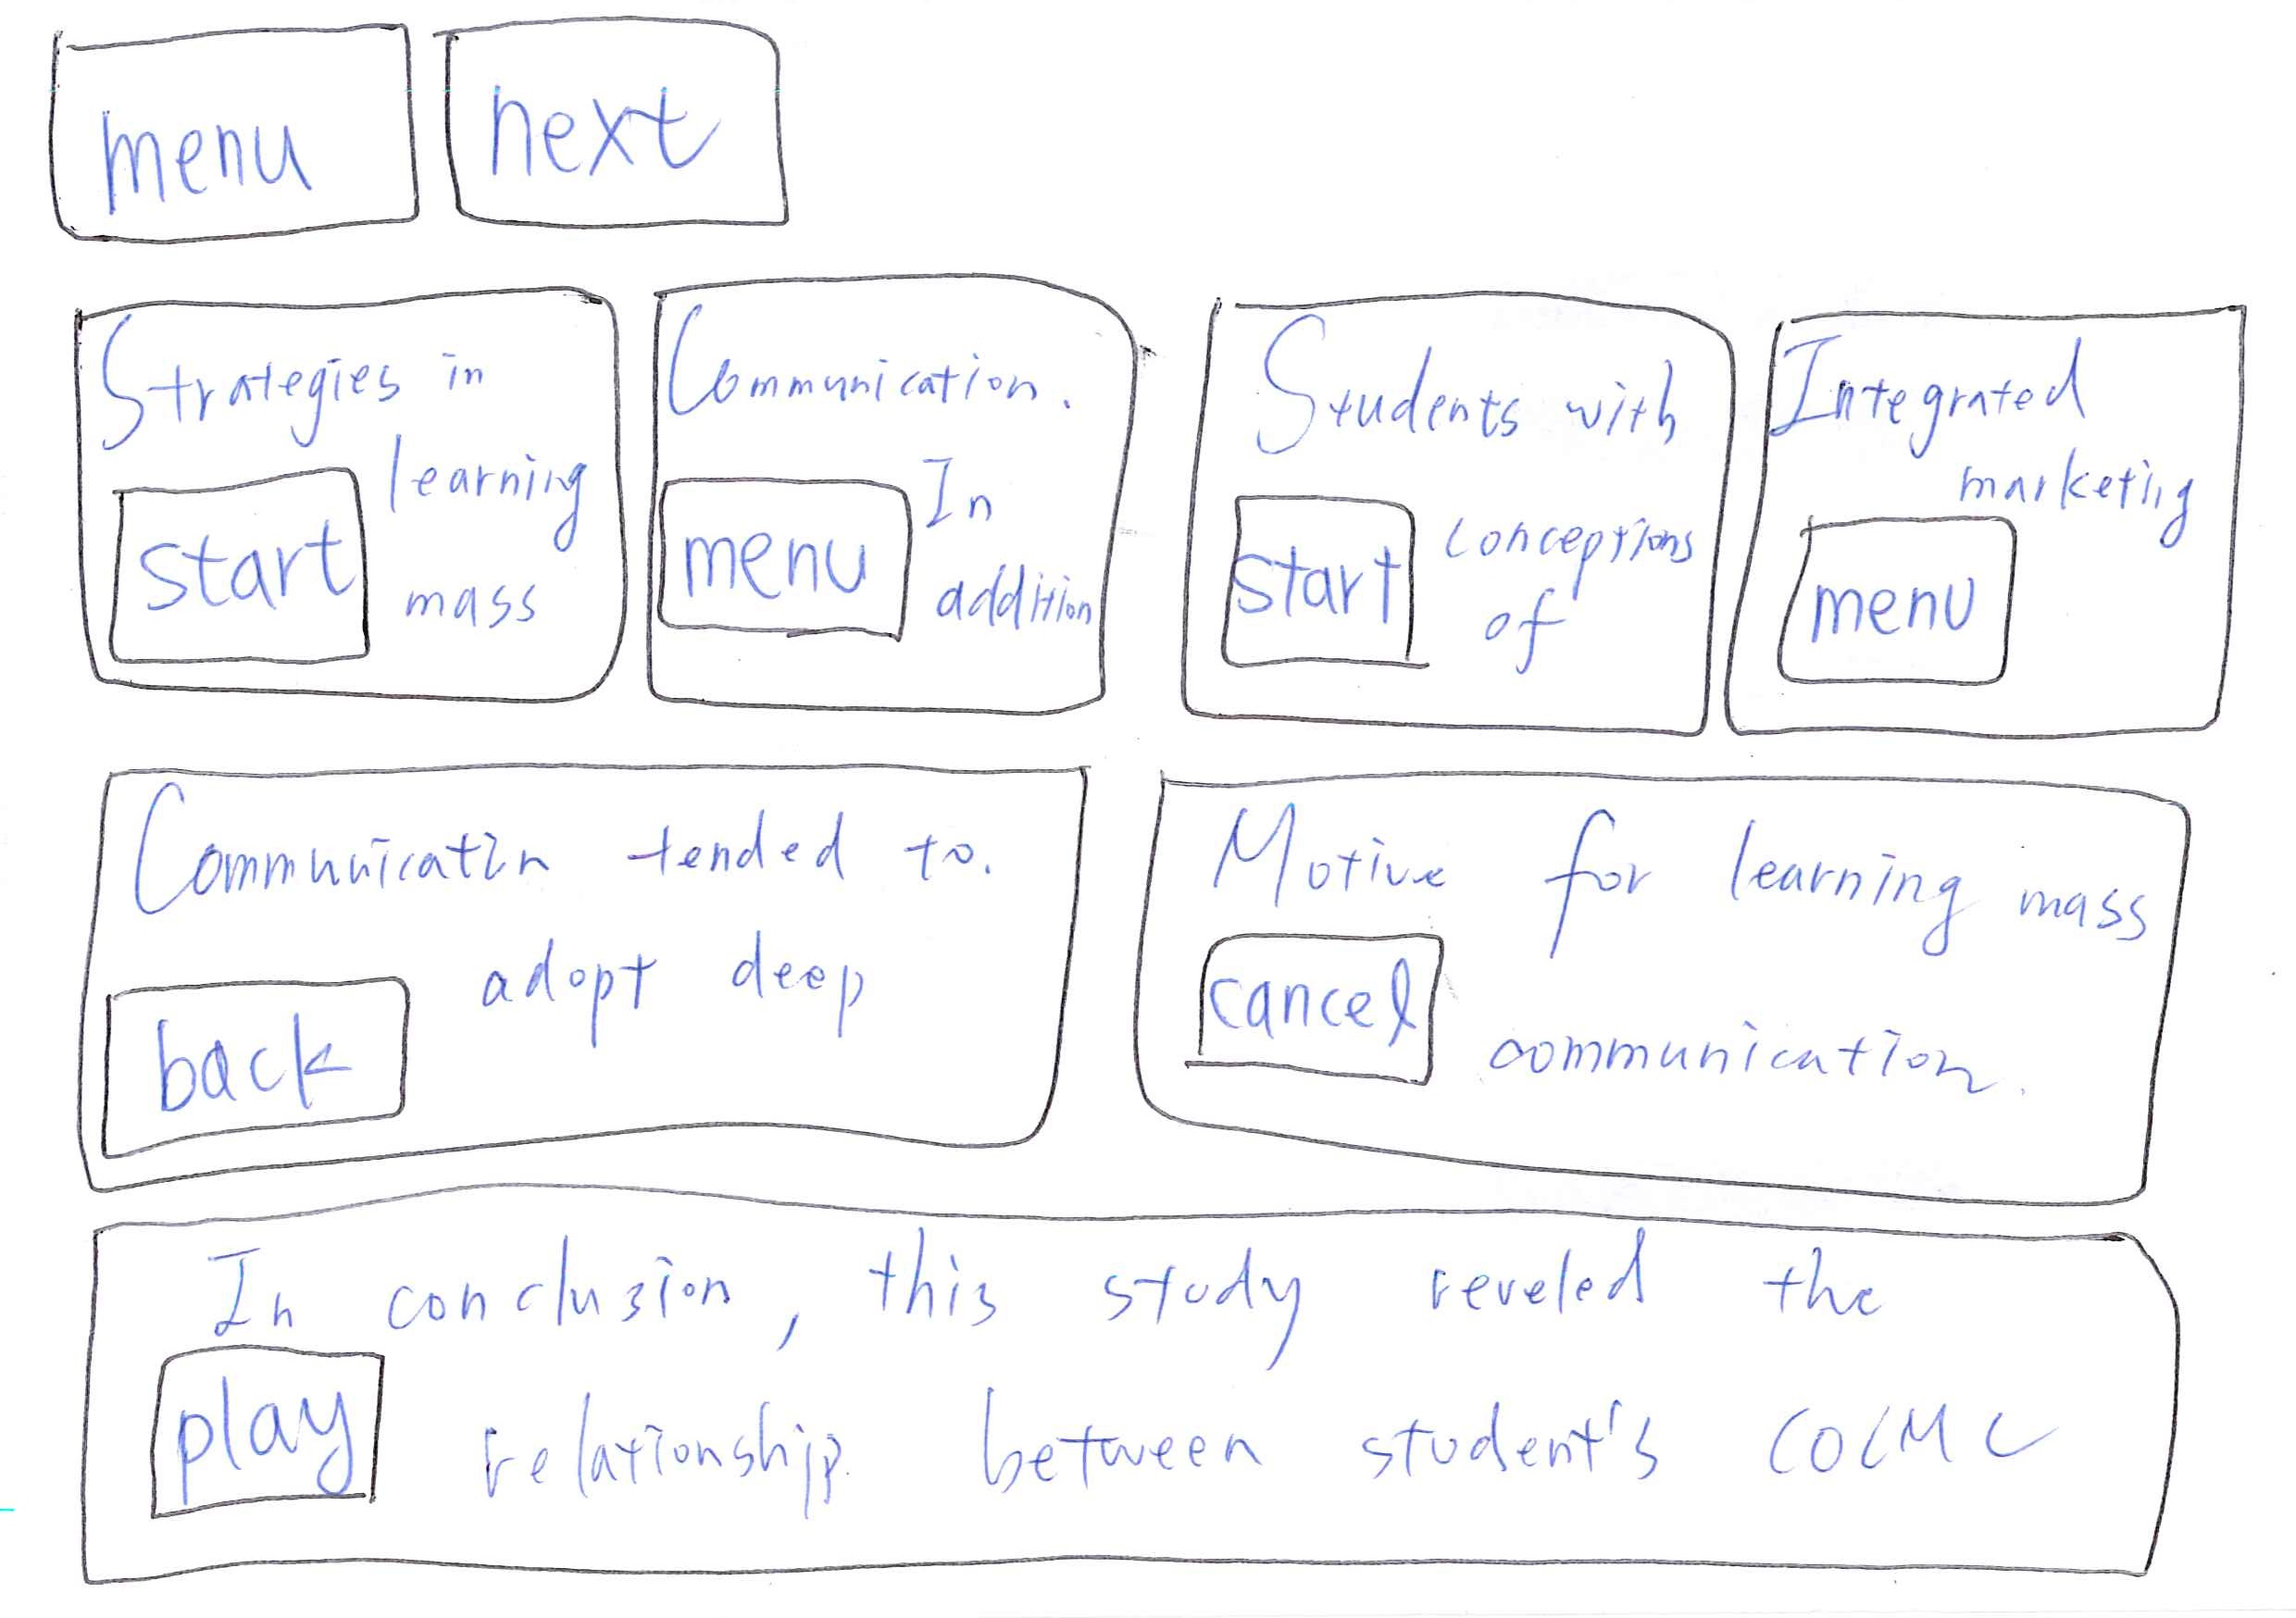back: (72, 960, 434, 1154)
cancel: (1170, 921, 1473, 1098)
double: (47, 1173, 2275, 1614), (1117, 751, 2245, 1217), (42, 737, 1105, 1170)
menu: (35, 14, 438, 256), (648, 468, 947, 665), (1764, 508, 2035, 697)
next: (426, 5, 816, 240)
play: (107, 1327, 419, 1550)
quadruple: (1163, 266, 1755, 767), (1704, 280, 2296, 781), (40, 273, 637, 723), (618, 266, 1158, 744)
row: (2, 263, 2296, 781), (2, 704, 2296, 1222), (2, 1163, 2296, 1618), (25, 2, 2296, 270)
small-title: (180, 1235, 1907, 1345), (1210, 797, 2152, 928), (133, 783, 1004, 904), (1250, 338, 1711, 469), (676, 298, 1074, 447), (100, 324, 522, 448), (1785, 336, 2142, 447)
start: (84, 464, 398, 676), (1201, 480, 1436, 688)
text: (455, 1357, 2088, 1495), (1490, 993, 2025, 1115), (464, 916, 874, 1051), (1452, 489, 1695, 660), (399, 459, 576, 650), (937, 462, 1079, 643), (1961, 459, 2196, 527)
